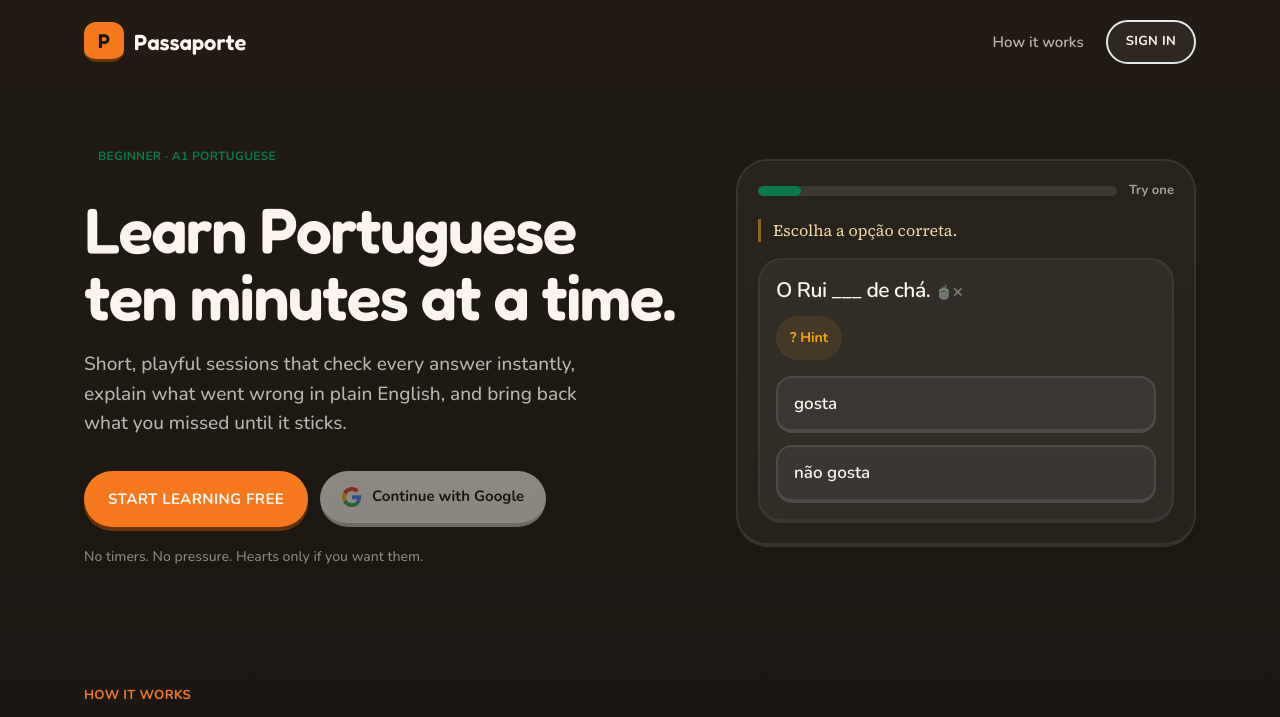
PassaporteLanding › grades the try-one demo
The image size is (1280, 717).
What coordinates should you click on to do the following:
click the button with test id "landing-demo-option-não-gosta"
I would click on:
 (832, 473)
Its box is [776,446,1156,503].
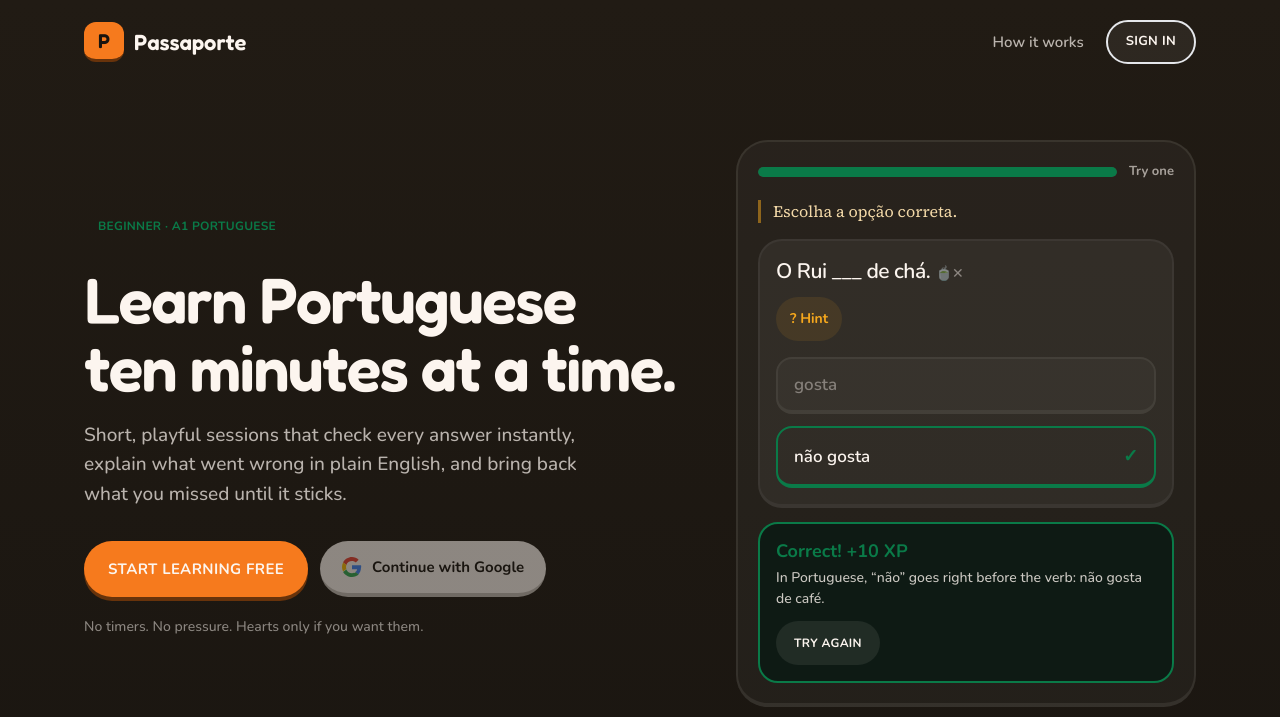
Expected: the text "Correct! +10 XP" is shown, [776,539,908,563]
